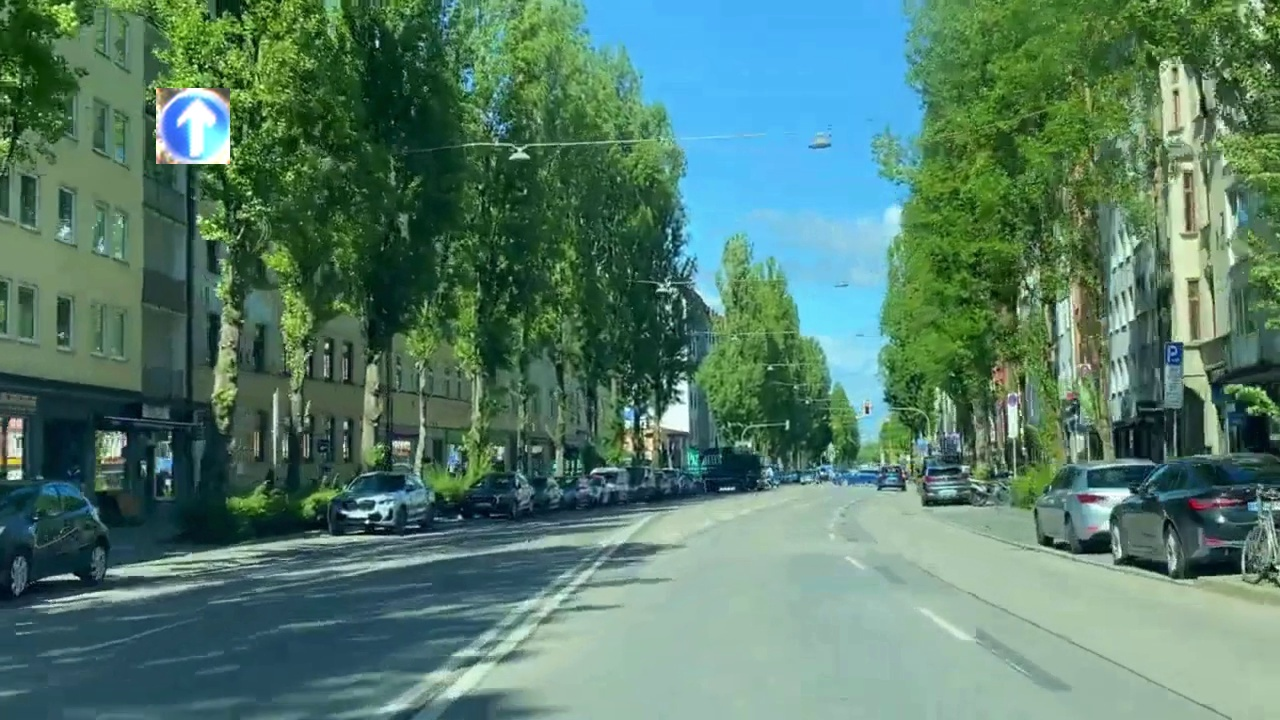Ahead only: (156, 88, 230, 164)
